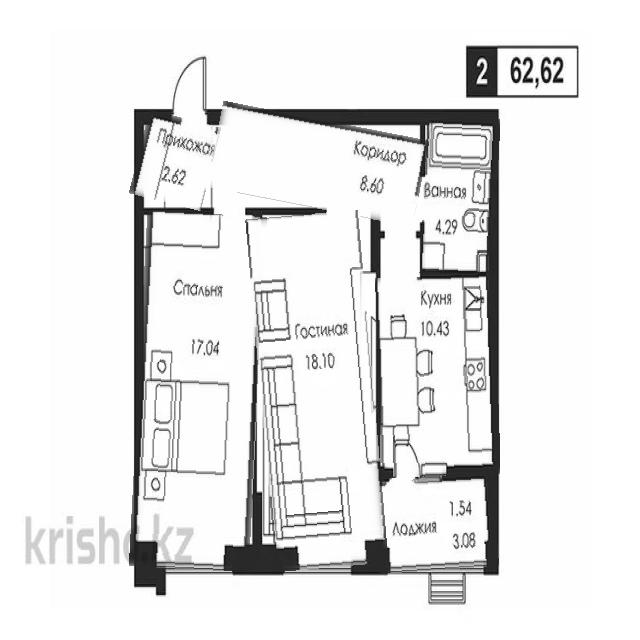balcony: (374, 476, 498, 572)
bathroom: (421, 118, 498, 276)
hallway: (210, 110, 427, 218), (133, 115, 217, 208)
kitchen: (377, 275, 498, 477)
living_room: (134, 212, 262, 571), (253, 212, 380, 570)
